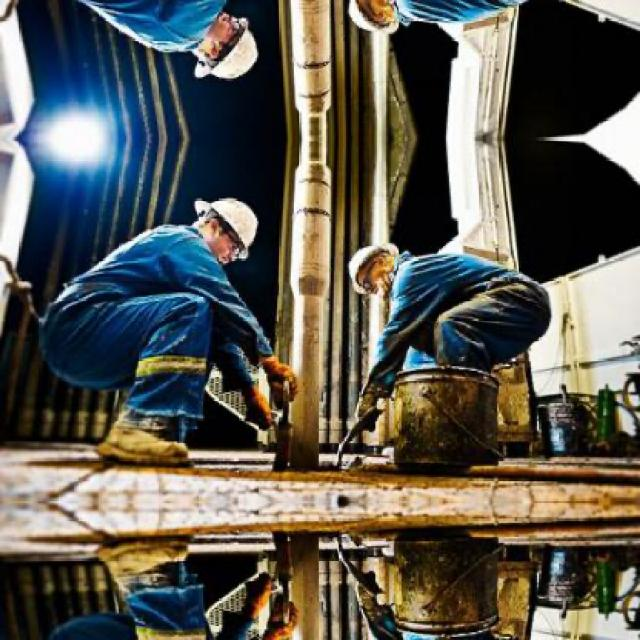helmet: (189, 192, 263, 265), (189, 11, 263, 83), (349, 242, 402, 298), (348, 0, 402, 34)
